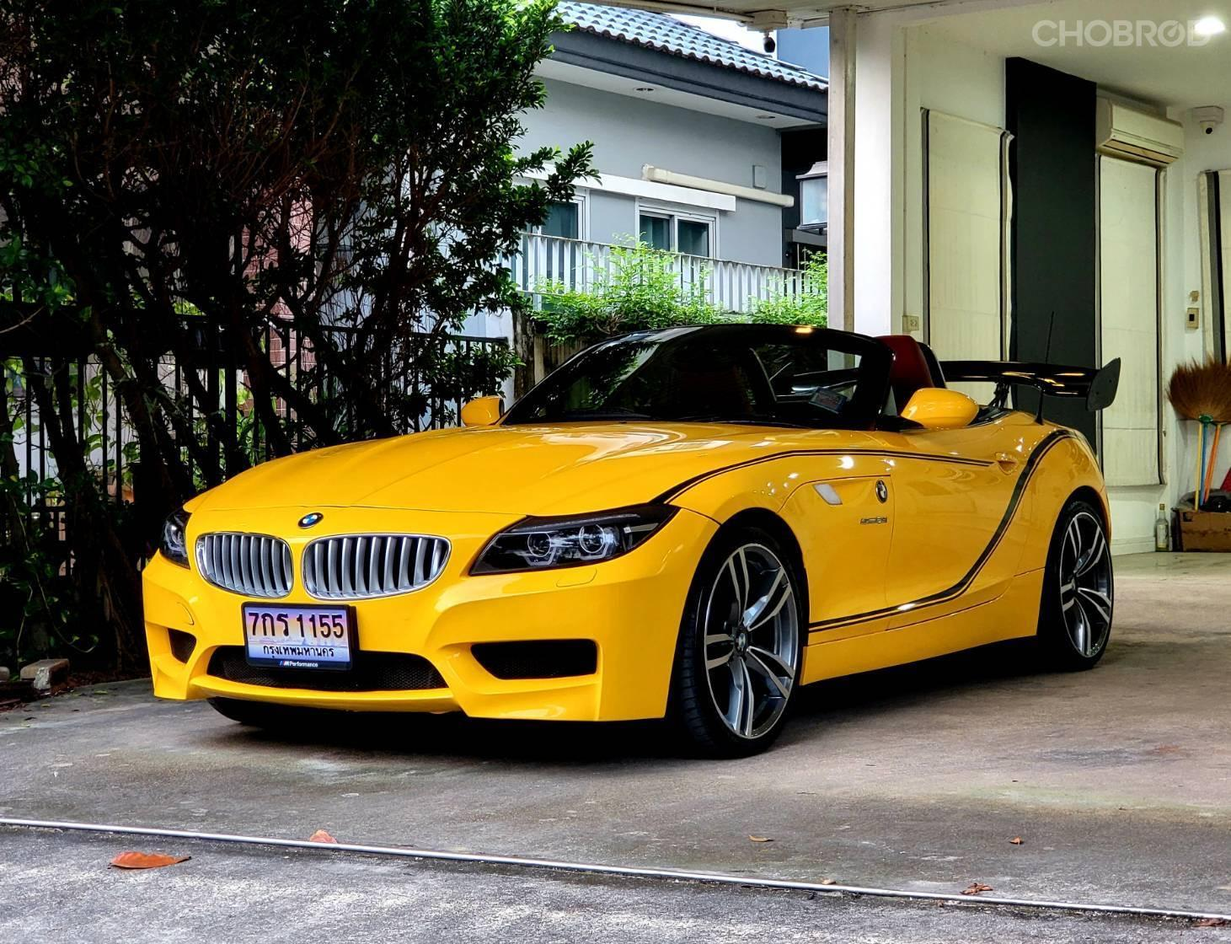license-plate: (232, 598, 364, 687)
